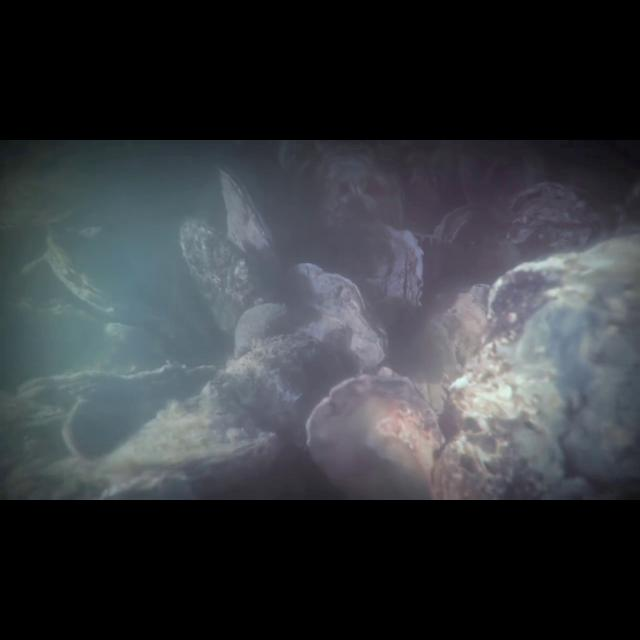Oyster-Closed: (432, 229, 640, 500), (212, 319, 366, 500), (91, 370, 280, 483), (302, 369, 449, 498), (171, 214, 269, 336), (294, 259, 394, 373), (215, 161, 293, 296), (14, 359, 218, 407), (501, 182, 631, 252), (42, 230, 132, 318), (360, 220, 432, 321), (233, 300, 298, 359), (58, 396, 106, 467), (431, 202, 482, 255)
